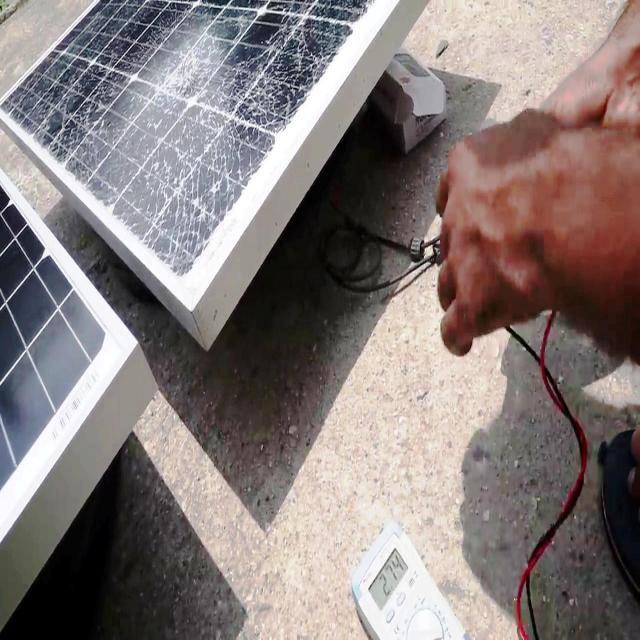faulty: (1, 3, 377, 292)
no faulty: (0, 171, 108, 547)
